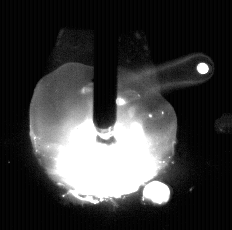arame: (94, 0, 118, 128)
poca: (28, 0, 178, 230)
